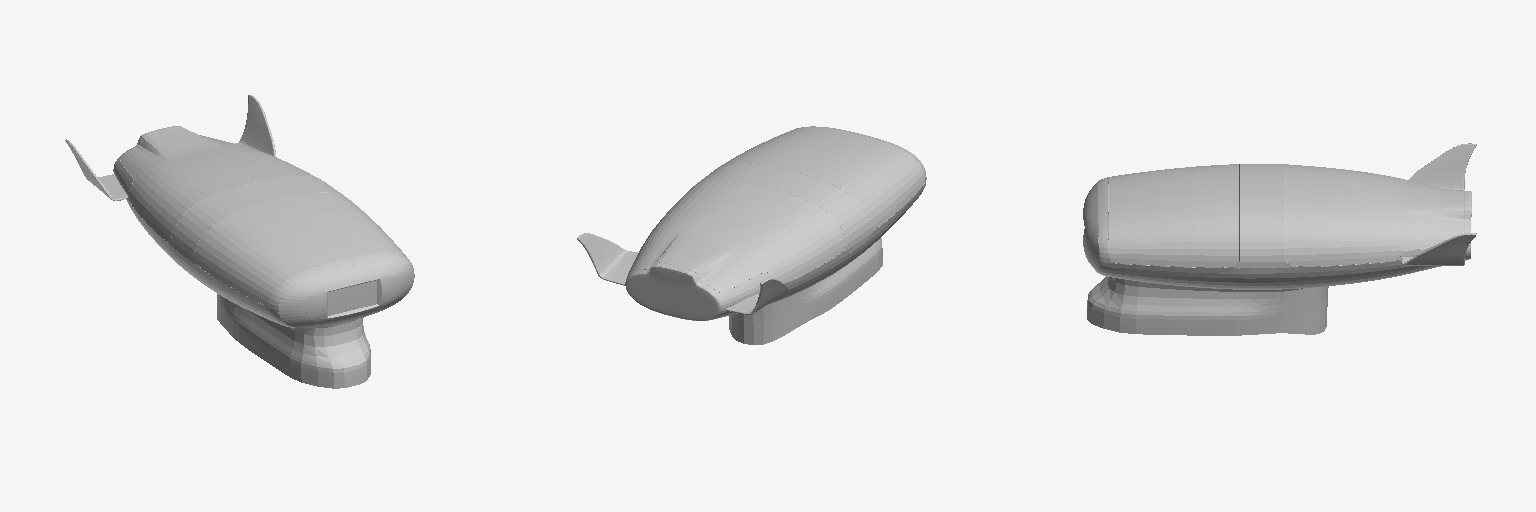
Rendered from RecCamera.obj.
3 views of the same model, side by side, from view 1: azimuth 30°, elevation 25°; view 2: azimuth 150°, elevation 25°; view 3: azimuth 270°, elevation 25° (orthographic).
Visible parts, largest first — view 1: group__Spark_Renault_SRT_01E_glass001.001; view 2: group__Spark_Renault_SRT_01E_glass001.001; view 3: group__Spark_Renault_SRT_01E_glass001.001.
Part boxes in pixels (x1,y1,x2,y2): group__Spark_Renault_SRT_01E_glass001.001: (65, 95, 414, 388); group__Spark_Renault_SRT_01E_glass001.001: (577, 126, 926, 344); group__Spark_Renault_SRT_01E_glass001.001: (1083, 143, 1476, 335).
Bounding box in the file's own units: 0.1234 × 0.0896 × 0.2255.